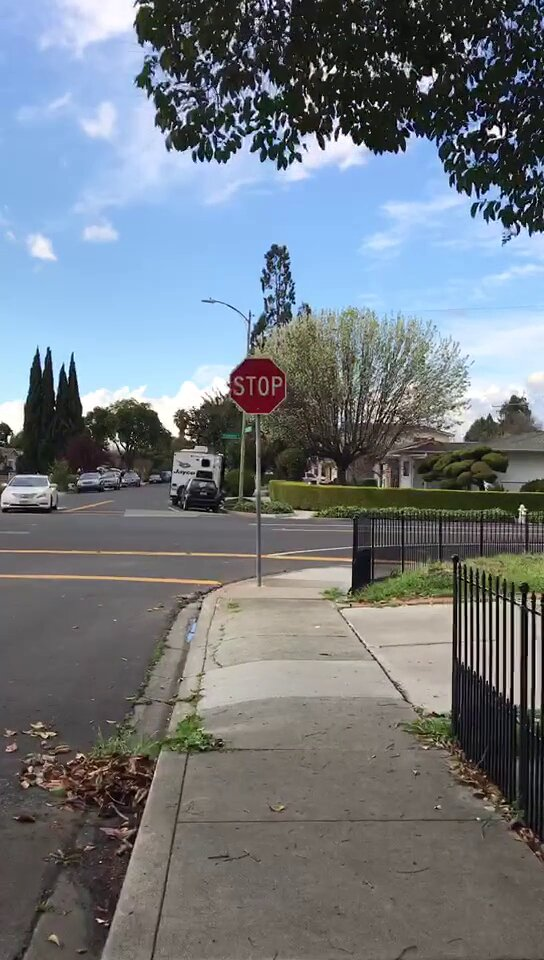stop_sign: (230, 358, 286, 413)
